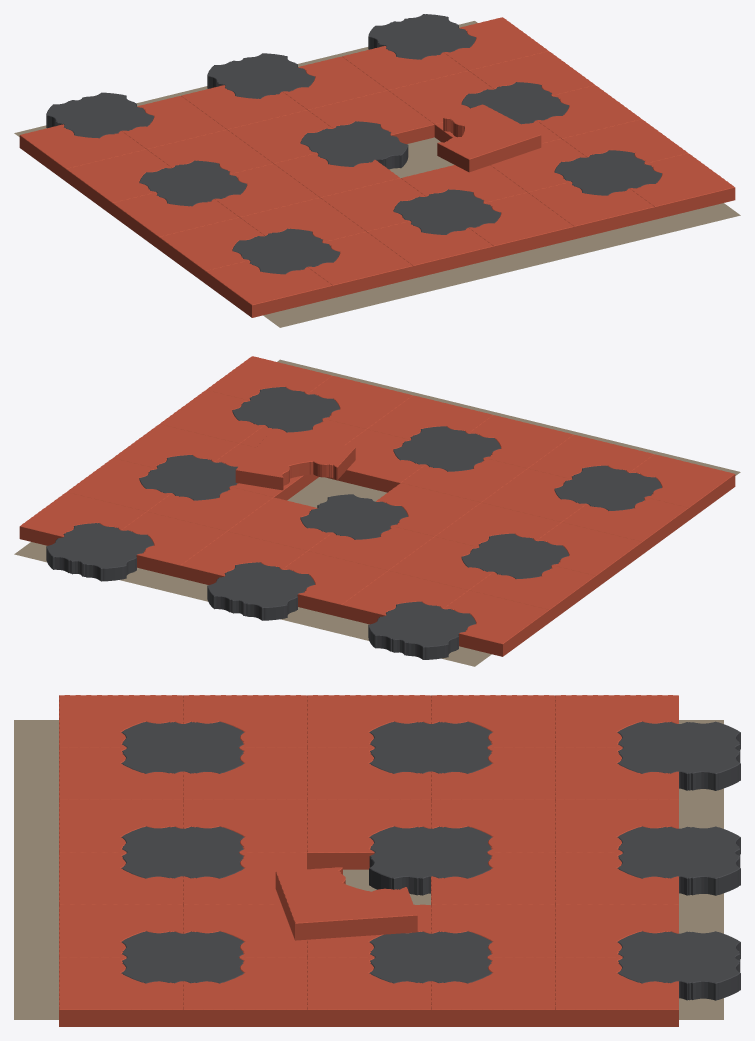
The model's file is terilgan.glb.
The picture shows the model from 3 angles, top to bottom: view 1: azimuth 30°, elevation 25°; view 2: azimuth 150°, elevation 25°; view 3: azimuth 270°, elevation 25°; orthographic projection. The views are drawn at different scales.
Parts seen in each view (by area): view 1: qum, t.003, t.018, t, t.013, t.026, t.029, t.016, t.022, t.007, t.011, t.008 (+28 smaller); view 2: qum, t.018, t.038, t.012, t.025, t.011, t.008, t.003, t.007, t.002, t.037, t.024 (+28 smaller); view 3: qum, t.018, t.027, t.032, t.026, t.031, t.036, t.025, t.012, t.038, t.022, t.021 (+28 smaller).
Boxes of the visible parts, <box> form: qum: <box>14,21,740,327</box>; t.003: <box>205,260,332,317</box>; t.018: <box>437,104,541,172</box>; t: <box>307,232,413,298</box>; t.013: <box>468,192,574,258</box>; t.026: <box>630,153,735,219</box>; t.029: <box>528,182,654,239</box>; t.016: <box>367,221,493,278</box>; t.022: <box>300,121,408,169</box>; t.007: <box>66,149,171,215</box>; t.011: <box>19,124,146,181</box>; t.008: <box>112,192,238,249</box>; qum: <box>14,359,740,666</box>; t.018: <box>235,433,355,490</box>; t.038: <box>46,523,153,581</box>; t.012: <box>368,601,475,659</box>; t.025: <box>207,562,314,620</box>; t.011: <box>444,590,549,656</box>; t.008: <box>537,522,642,588</box>; t.003: <box>630,454,735,520</box>; t.007: <box>469,565,595,622</box>; t.002: <box>562,497,688,554</box>; t.037: <box>122,512,226,578</box>; t.024: <box>283,551,387,617</box>; qum: <box>14,720,723,1019</box>; t.018: <box>275,867,417,940</box>; t.027: <box>183,957,306,1026</box>; t.032: <box>431,957,554,1026</box>; t.026: <box>59,957,182,1026</box>; t.031: <box>307,957,430,1026</box>; t.036: <box>555,957,678,1026</box>; t.025: <box>617,826,740,895</box>; t.012: <box>617,721,740,790</box>; t.038: <box>617,931,740,1000</box>; t.022: <box>369,826,492,895</box>; t.021: <box>307,800,430,869</box>.
Bounding box in the file's own units: 1.74 × 0.092 × 1.7.
